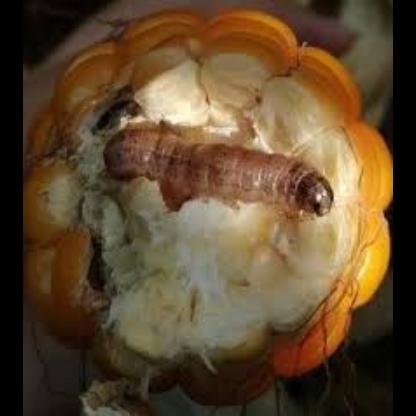oruga: (90, 142, 348, 202)
